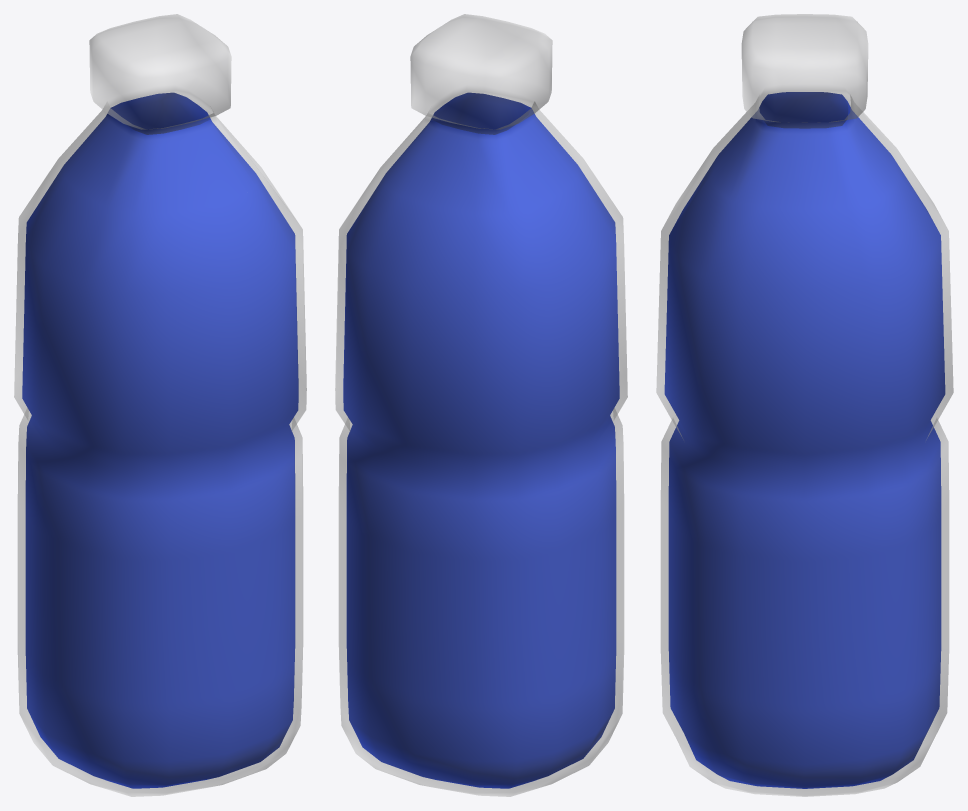
Rendered from WaterBottle.fbx.
The picture shows the model from 3 angles, left to right: view 1: azimuth 30°, elevation 25°; view 2: azimuth 150°, elevation 25°; view 3: azimuth 270°, elevation 25°; orthographic projection.
Visible parts, largest first — view 1: WaterBottle, Water; view 2: WaterBottle, Water; view 3: WaterBottle, Water.
Boxes of the visible parts, x1,y1,x2,y2 form: WaterBottle: (14,14,306,796); Water: (22,92,298,788); WaterBottle: (335,14,627,796); Water: (343,92,619,788); WaterBottle: (656,14,953,796); Water: (664,92,945,788).
Bounding box in the file's own units: 164 × 438 × 164.
